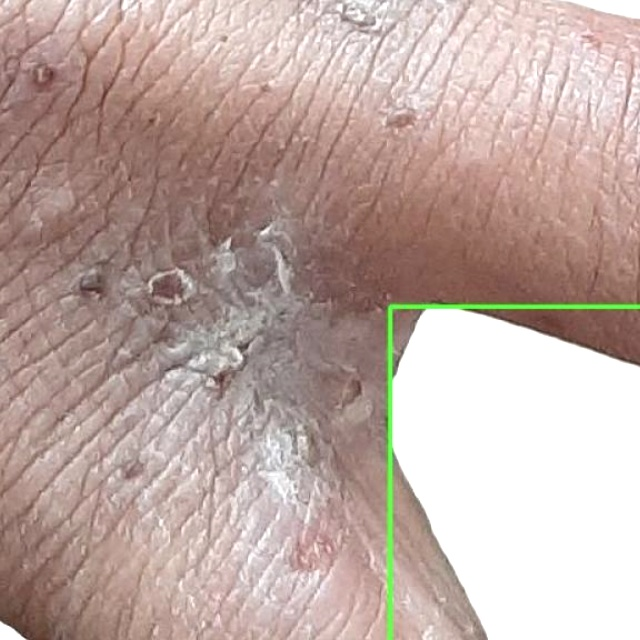Scabies: (390, 306, 639, 639)
